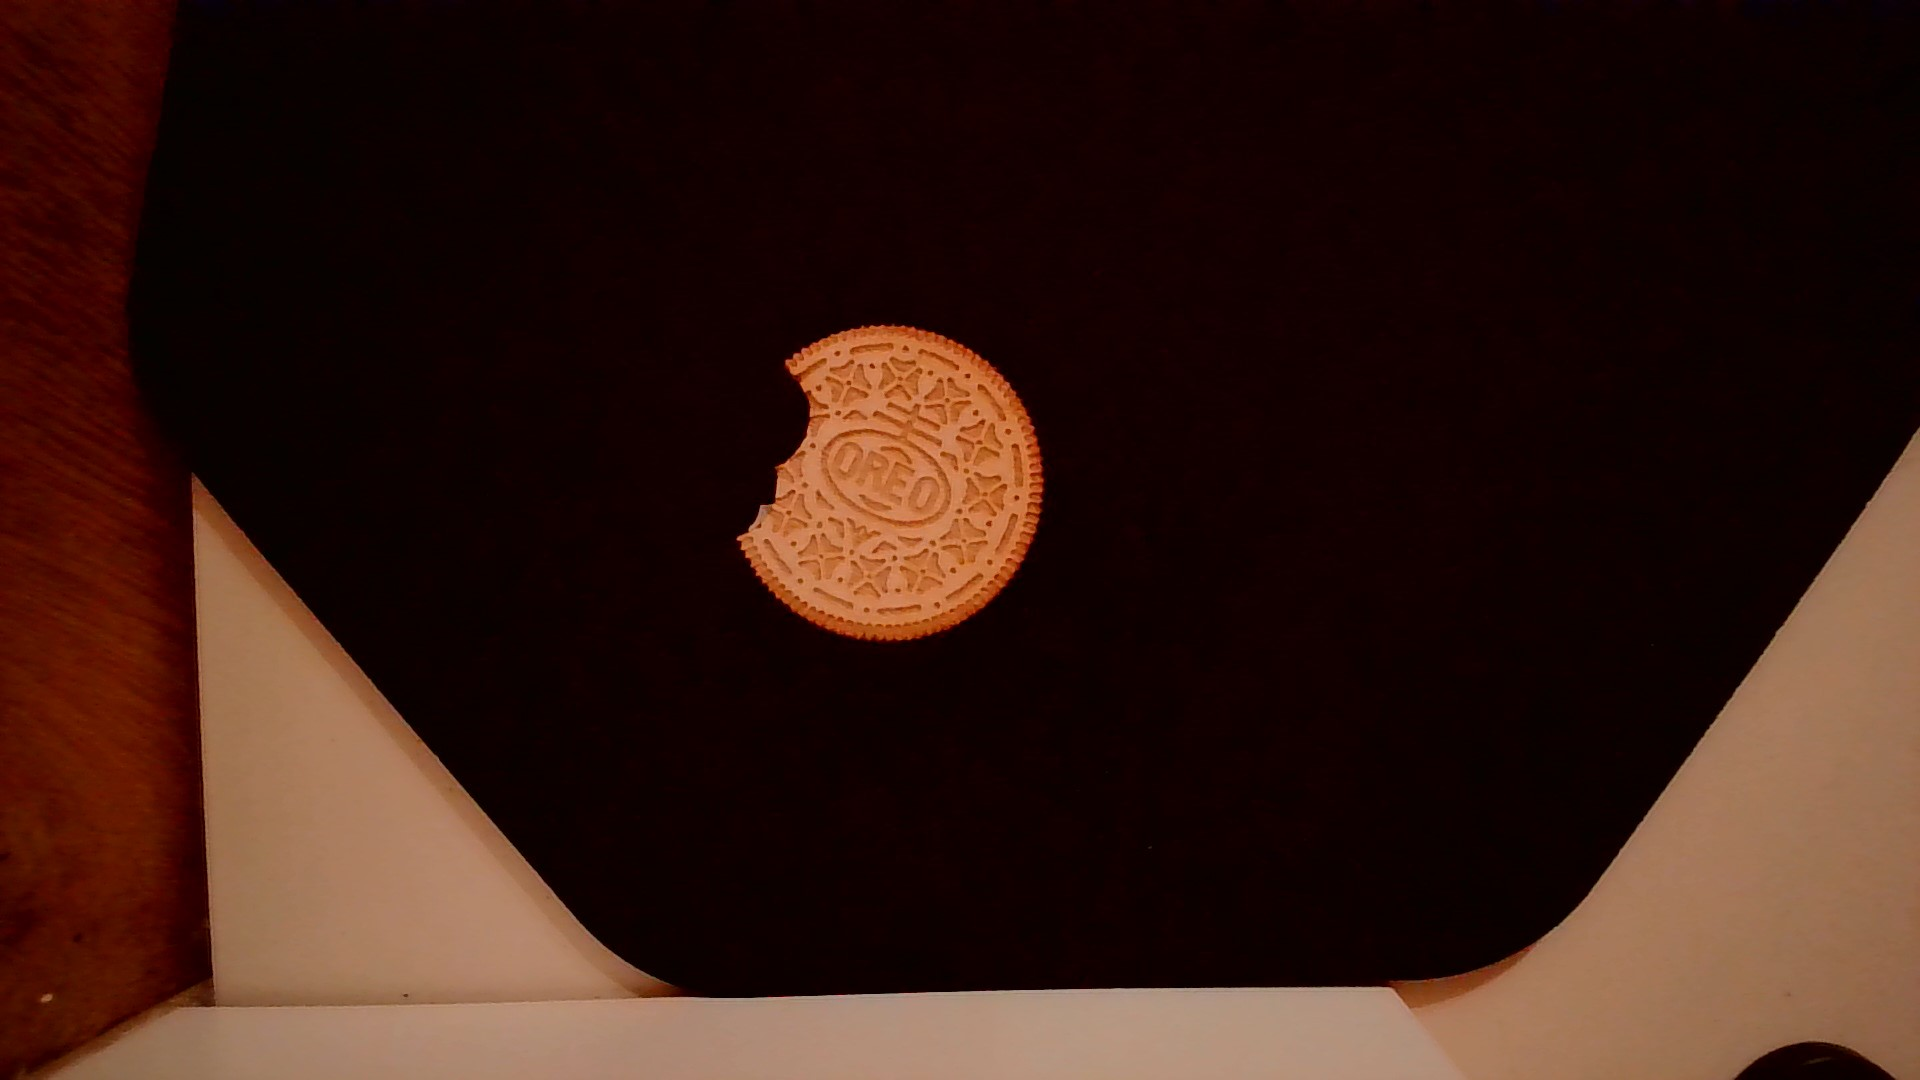Mangé: (704, 349, 829, 560)
Oréo: (729, 313, 1052, 651)
